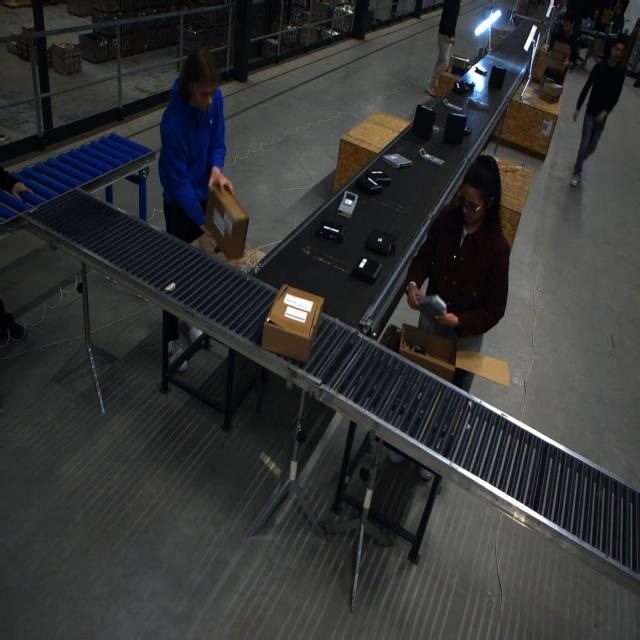box: (261, 285, 321, 362), (205, 182, 249, 260), (400, 323, 455, 382)
product: (363, 228, 397, 257), (414, 149, 451, 173), (412, 104, 436, 140), (350, 257, 382, 284), (442, 112, 468, 145), (417, 293, 447, 319), (315, 220, 344, 244), (355, 175, 384, 196), (337, 191, 358, 218), (381, 154, 411, 170), (488, 64, 506, 89), (449, 55, 469, 76), (365, 169, 389, 185), (454, 80, 475, 94), (467, 97, 489, 110), (442, 98, 462, 112), (474, 66, 487, 75)
